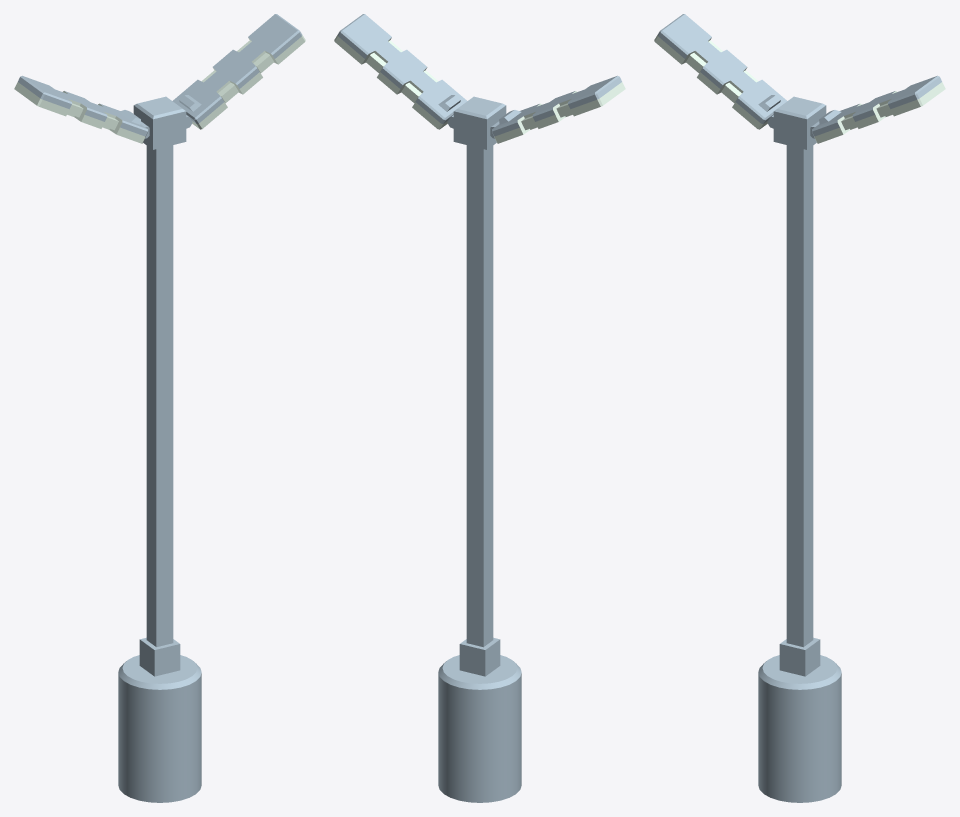
File: streetlight_20.fbx
The picture shows the model from 3 angles, left to right: view 1: azimuth 30°, elevation 25°; view 2: azimuth 150°, elevation 25°; view 3: azimuth 330°, elevation 25°; orthographic projection.
Visible parts, largest first — view 1: pCube21, streetlight_20, polySurface41 (×2), polySurface40; view 2: pCube21, streetlight_20, polySurface41 (×2), polySurface40; view 3: pCube21, streetlight_20, polySurface41 (×2), polySurface40.
Boxes of the visible parts, x1,y1,x2,y2 form: pCube21: (133, 96, 186, 676); streetlight_20: (118, 655, 201, 802); polySurface41 (×2): (14, 14, 305, 143); polySurface40: (201, 40, 273, 103); pCube21: (453, 96, 506, 676); streetlight_20: (438, 655, 521, 802); polySurface41 (×2): (334, 14, 625, 143); polySurface40: (366, 40, 438, 103); pCube21: (773, 96, 826, 676); streetlight_20: (758, 655, 841, 802); polySurface41 (×2): (654, 14, 945, 143); polySurface40: (686, 40, 758, 103).
Size of the model in its own units: 4.28 by 11.14 by 1.15.
